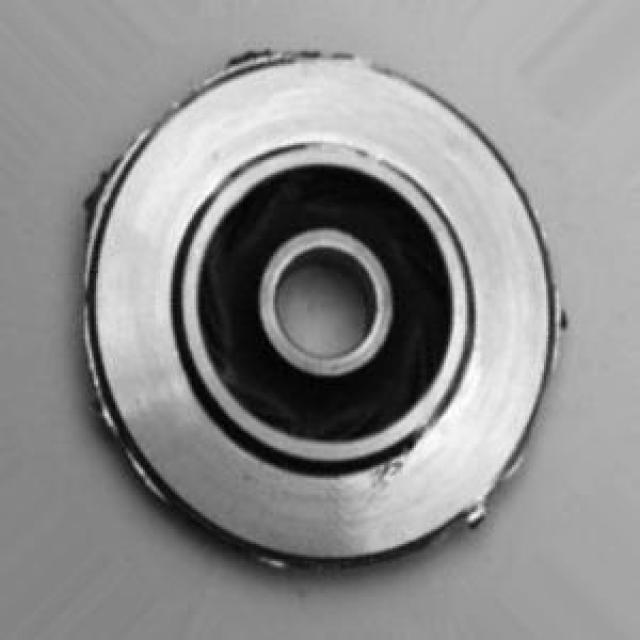Defect: (366, 438, 421, 487), (462, 486, 491, 535)
